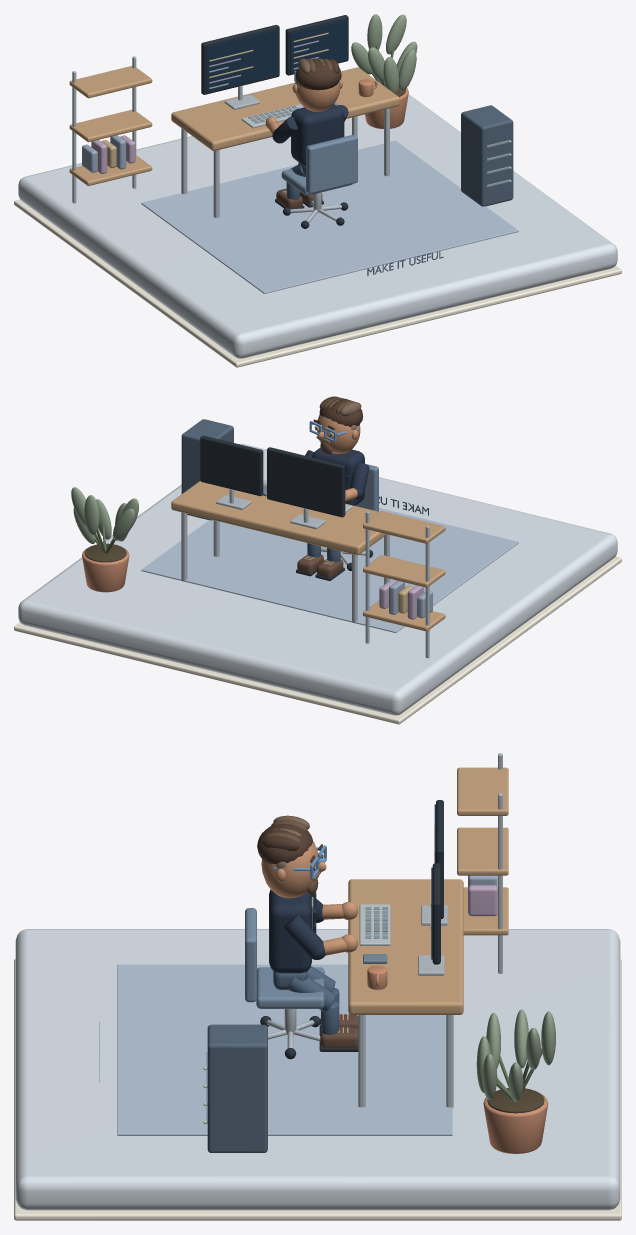
3 renders of one model, top to bottom at view 1: azimuth 30°, elevation 25°; view 2: azimuth 150°, elevation 25°; view 3: azimuth 270°, elevation 25°, orthographic. The views are drawn at different scales.
Visible parts, largest first — view 1: Square floating plinth, Woven rug, Oak desktop, Ivory lower edge, Computer tower, Screen glass, Chair back, Jacket body, Screen glass.001, Shelf.001, Shelf.002, Shelf (+8 smaller); view 2: Square floating plinth, Woven rug, Oak desktop, Ivory lower edge, Monitor frame, Monitor frame.001, Computer tower, Shelf.002, Shelf.001, Terracotta planter, Shelf, Face (+9 smaller); view 3: Square floating plinth, Woven rug, Oak desktop, Computer tower, Ivory lower edge, Jacket body, Shelf.002, Terracotta planter, Shelf.001, Chair seat, Face, Shelf (+15 smaller).
Part boxes in pixels (box(x1,y1,x2,y2)): Square floating plinth: box(18, 94, 617, 358); Woven rug: box(141, 140, 518, 293); Oak desktop: box(171, 67, 399, 150); Ivory lower edge: box(14, 199, 621, 367); Computer tower: box(461, 105, 513, 206); Screen glass: box(206, 29, 278, 92); Chair back: box(306, 134, 357, 193); Jacket body: box(291, 104, 344, 165); Screen glass.001: box(290, 19, 347, 73); Shelf.001: box(69, 109, 152, 142); Shelf.002: box(69, 66, 152, 98); Shelf: box(69, 155, 152, 185); Square floating plinth: box(18, 443, 617, 715); Woven rug: box(141, 480, 518, 632); Oak desktop: box(171, 481, 386, 555); Ivory lower edge: box(14, 556, 621, 724); Monitor frame: box(267, 447, 345, 517); Monitor frame.001: box(200, 435, 263, 496); Computer tower: box(181, 419, 233, 520); Shelf.002: box(363, 511, 445, 543); Shelf.001: box(363, 555, 445, 587); Terracotta planter: box(82, 548, 129, 592); Shelf: box(363, 600, 445, 631); Face: box(317, 415, 360, 453); Square floating plinth: box(15, 929, 620, 1210); Woven rug: box(117, 964, 452, 1135); Oak desktop: box(348, 879, 463, 1014); Computer tower: box(207, 1024, 267, 1152); Ivory lower edge: box(14, 959, 621, 1220); Jacket body: box(269, 889, 311, 973); Shelf.002: box(457, 767, 508, 815); Terracotta planter: box(483, 1094, 548, 1153); Shelf.001: box(457, 827, 508, 875); Chair seat: box(256, 967, 324, 1008); Face: box(261, 841, 318, 898); Shelf: box(463, 887, 508, 935).
Bounding box in the file's own units: 5.53 × 2.62 × 5.53.
